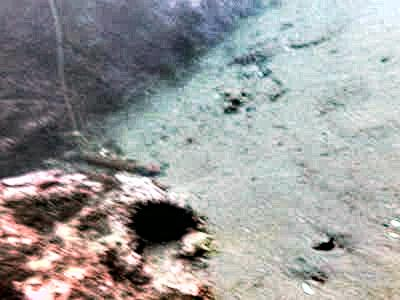urchin: (128, 195, 197, 242)
